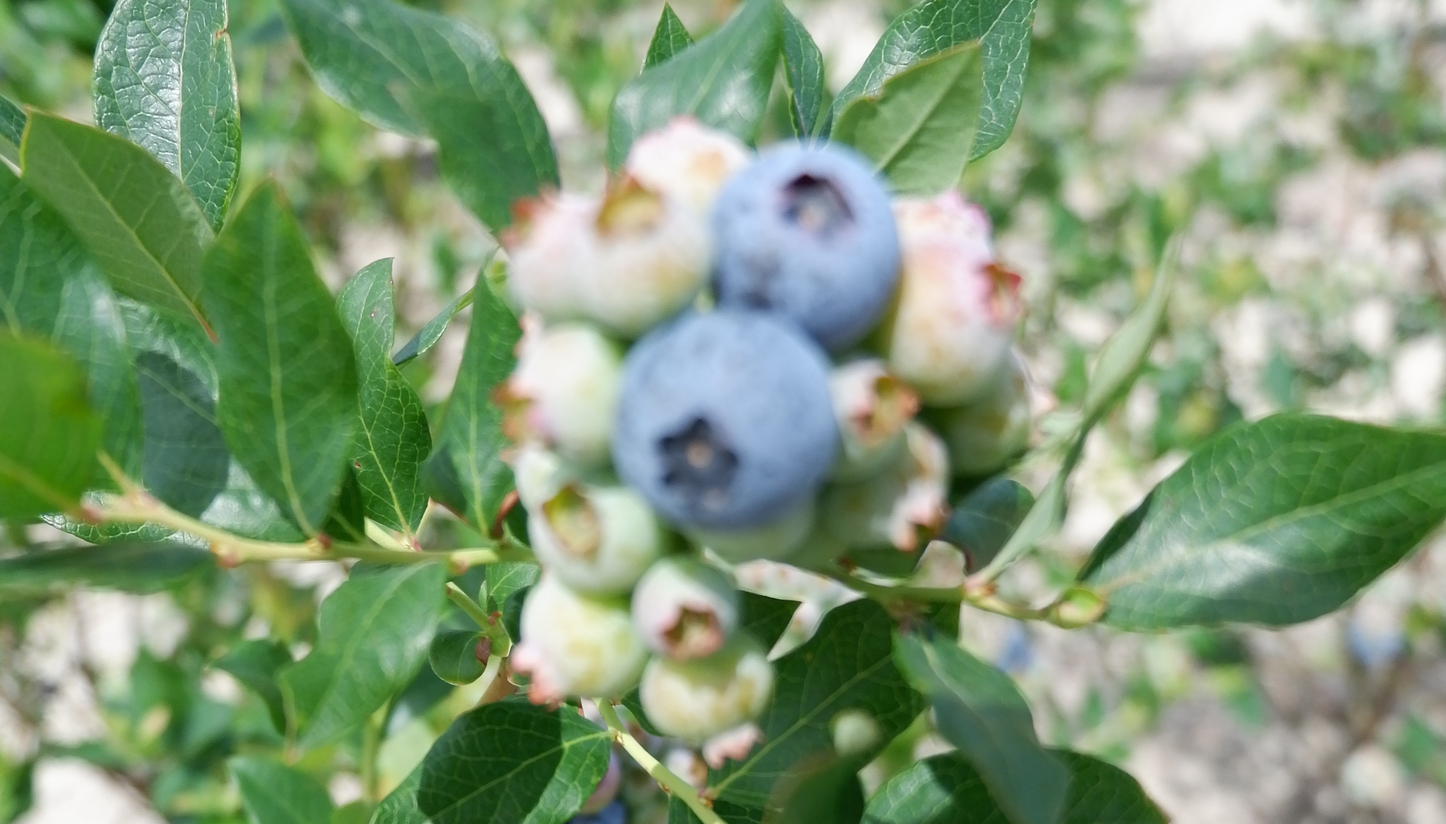Immature: (863, 241, 1030, 411), (577, 186, 706, 336), (498, 325, 619, 465), (510, 577, 645, 701), (819, 432, 946, 561), (534, 482, 661, 594), (642, 636, 771, 746), (502, 191, 597, 325), (628, 118, 751, 212), (828, 360, 918, 484), (928, 355, 1025, 469), (633, 561, 738, 659), (887, 191, 994, 273), (698, 501, 815, 562), (507, 450, 578, 508)
Mature: (612, 311, 832, 527), (713, 149, 897, 346)
